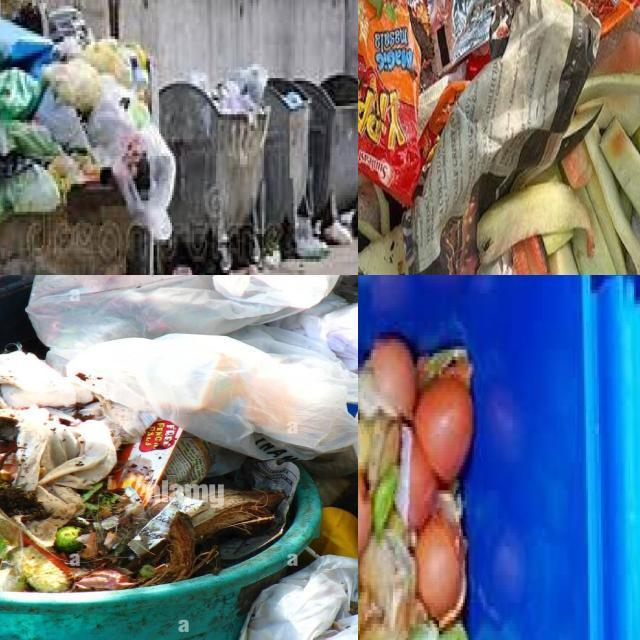Garbage: (0, 275, 358, 592), (358, 0, 640, 275), (0, 19, 176, 239), (358, 332, 475, 640)
Plastic_Bag: (66, 334, 358, 460), (26, 275, 338, 367), (87, 72, 176, 240), (35, 87, 90, 152), (0, 165, 61, 222), (42, 58, 100, 116), (0, 16, 53, 70), (0, 118, 62, 162), (7, 165, 61, 215), (83, 39, 132, 87), (0, 68, 42, 120)
Plastic_wraper: (358, 0, 498, 204), (107, 420, 211, 501)
